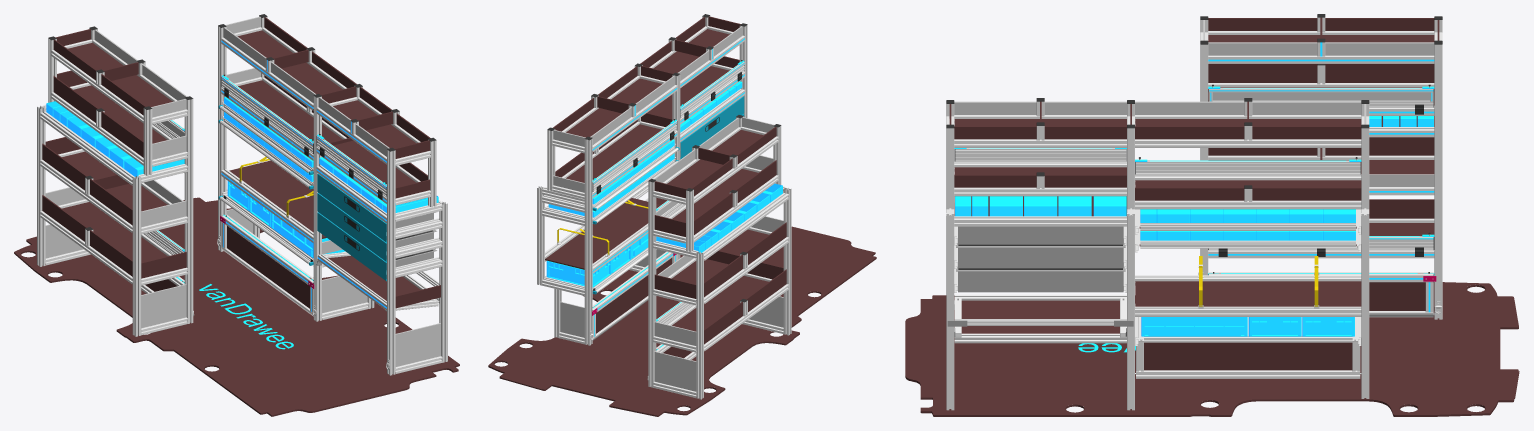
Rendered from vd_export_vw_crafter_l3h3_fwd_e59b6431.glb.
The picture shows the model from 3 angles, left to right: view 1: azimuth 30°, elevation 25°; view 2: azimuth 150°, elevation 25°; view 3: azimuth 270°, elevation 25°; orthographic projection. The views are drawn at different scales.
Visible parts, largest first — view 1: SomeName_Mesh_0056_2, PR10_1266x306 (×6), 45x45x1700_noha (×4), 45x45x1267_Zx2_2 (×8), PR10_1266x395 (×3), CUB10_395x260 (×4), Multibox_Arc (×4), 45x45x1200_noha (×3), drawer (×3), PR10_635x130 (×3), PR10_635x130_2 (×3), PR10_1192x210 (+25 smaller); view 2: SomeName_Mesh_0056_2, PR10_1266x306 (×6), PR10_1266x395 (×3), 45x45x1267_Zx2_2 (×8), 45x45x1700_noha (×4), Multibox_Arc (×4), 45x45x1200_noha (×2), CUB10_395x260 (×2), blue_klt (×2), PR10_635x130_2 (×3), PR10_635x130 (×3), 45x45x369_Zx2 (×4) (+20 smaller); view 3: SomeName_Mesh_0056_2, 45x45x1267_Zx2 (×7), Suplikocel1301057459 (×3), Multibox_Arc (×4), 45x45x1267_Zx2_2 (×7), PR10_1266x306 (×5), PR10_1266x395 (×3), PR10_1192x210 (×2), blue_klt (×4), PR10_635x130 (×4), CUB10_635x89 (×4), 20x80x1258 (×2) (+24 smaller).
Boxes of the visible parts, x1,y1,x2,y2 form: SomeName_Mesh_0056_2: (14, 197, 459, 416); PR10_1266x306 (×6): (68, 30, 415, 187); 45x45x1700_noha (×4): (184, 26, 395, 375); 45x45x1267_Zx2_2 (×8): (40, 37, 386, 283); PR10_1266x395 (×3): (62, 151, 326, 262); CUB10_395x260 (×4): (45, 224, 440, 366); Multibox_Arc (×4): (46, 97, 438, 212); 45x45x1200_noha (×3): (37, 106, 447, 362); drawer (×3): (317, 173, 386, 281); PR10_635x130 (×3): (42, 76, 98, 241); PR10_635x130_2 (×3): (90, 111, 143, 276); PR10_1192x210: (227, 226, 309, 308); SomeName_Mesh_0056_2: (488, 226, 876, 416); PR10_1266x306 (×6): (566, 29, 763, 222); PR10_1266x395 (×3): (545, 198, 768, 331); 45x45x1267_Zx2_2 (×8): (592, 35, 788, 351); 45x45x1700_noha (×4): (584, 25, 747, 387); Multibox_Arc (×4): (548, 81, 782, 252); 45x45x1200_noha (×2): (696, 188, 791, 399); CUB10_395x260 (×2): (654, 296, 783, 391); blue_klt (×2): (546, 119, 677, 287); PR10_635x130_2 (×3): (735, 160, 786, 311); PR10_635x130 (×3): (694, 192, 742, 344); 45x45x369_Zx2 (×4): (542, 195, 698, 295); SomeName_Mesh_0056_2: (905, 282, 1519, 416); 45x45x1267_Zx2 (×7): (954, 31, 1434, 316); Suplikocel1301057459 (×3): (956, 226, 1125, 292); Multibox_Arc (×4): (955, 116, 1433, 240); 45x45x1267_Zx2_2 (×7): (954, 55, 1434, 285); PR10_1266x306 (×5): (954, 35, 1434, 187); PR10_1266x395 (×3): (1135, 160, 1434, 306); PR10_1192x210 (×2): (1144, 282, 1425, 370); blue_klt (×4): (1141, 42, 1434, 336); PR10_635x130 (×4): (1135, 64, 1434, 218); CUB10_635x89 (×4): (954, 42, 1434, 186); 20x80x1258 (×2): (1136, 160, 1433, 250).
Bounding box in the file's own units: 1766 × 1733 × 3439.
